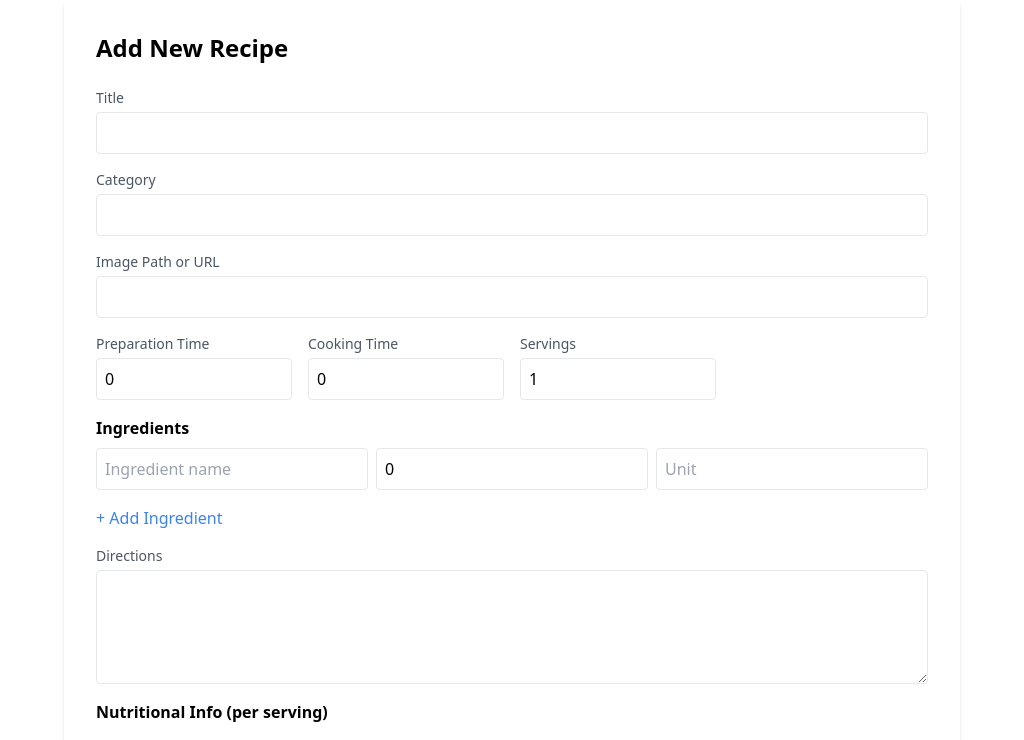
Test: AddRecipe Page › shows error if ingredient is missing required fields
In the field labelled "Title": (512, 133) top-left (96, 112), bottom-right (928, 154), type "Test Recipe"
In the field labelled "Category": (512, 215) top-left (96, 194), bottom-right (928, 236), type "Test"
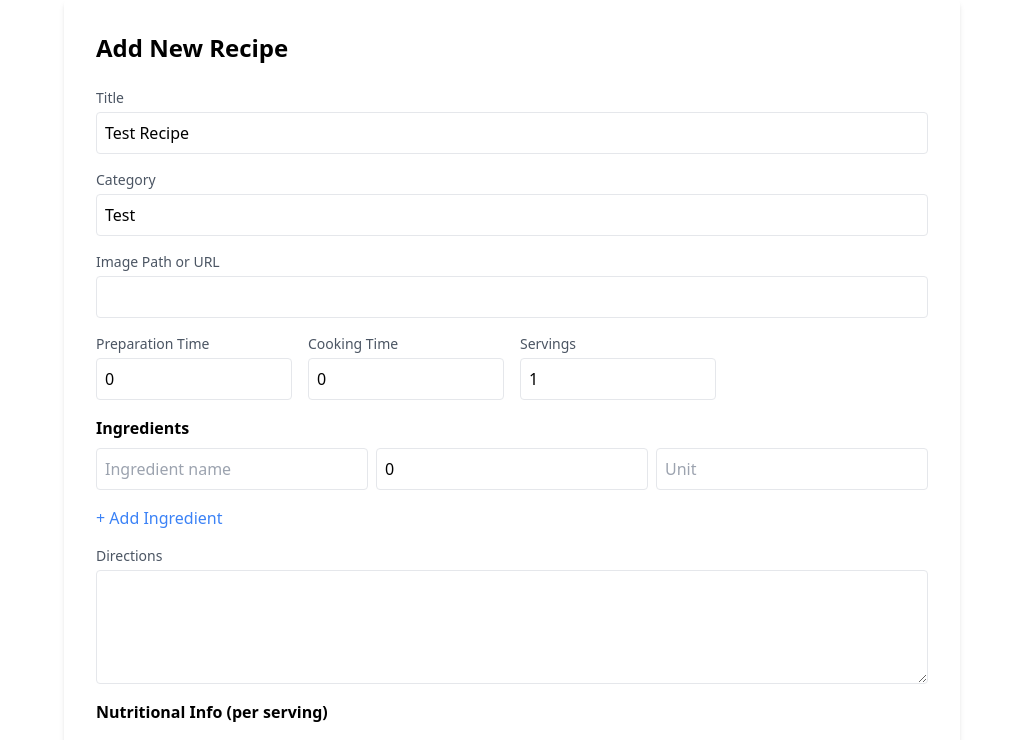
In the text box labelled "Directions": (512, 627) top-left (96, 570), bottom-right (928, 684), type "Boil"
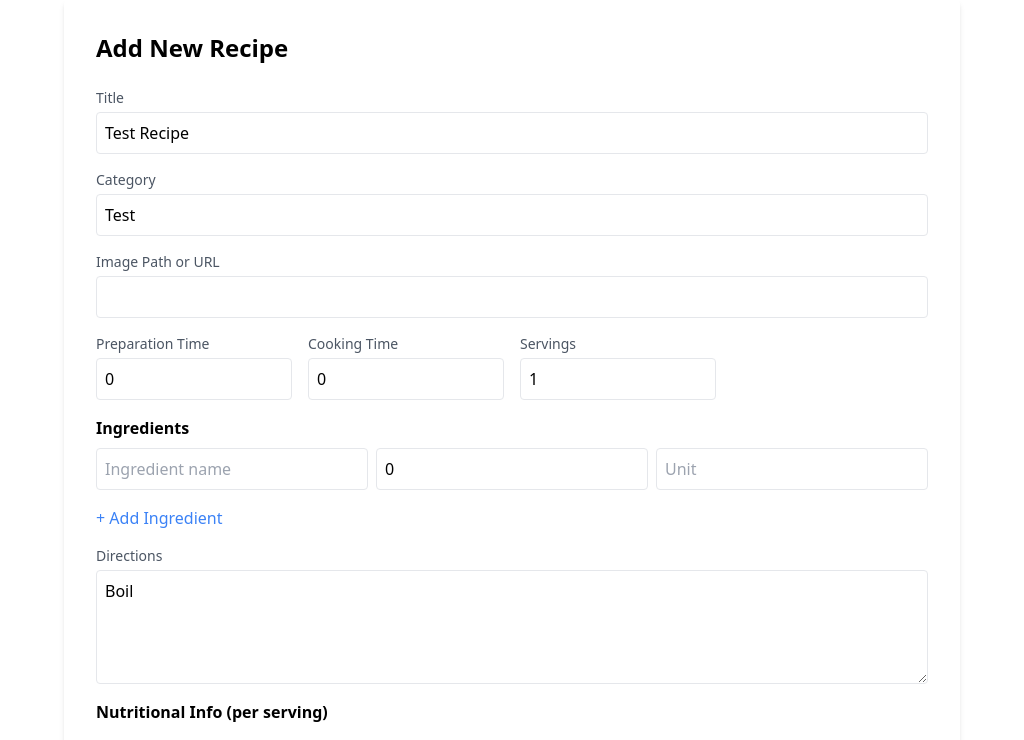
Replace the text in the number field labelled "Preparation Time" with "10": (194, 379) top-left (96, 358), bottom-right (292, 400)
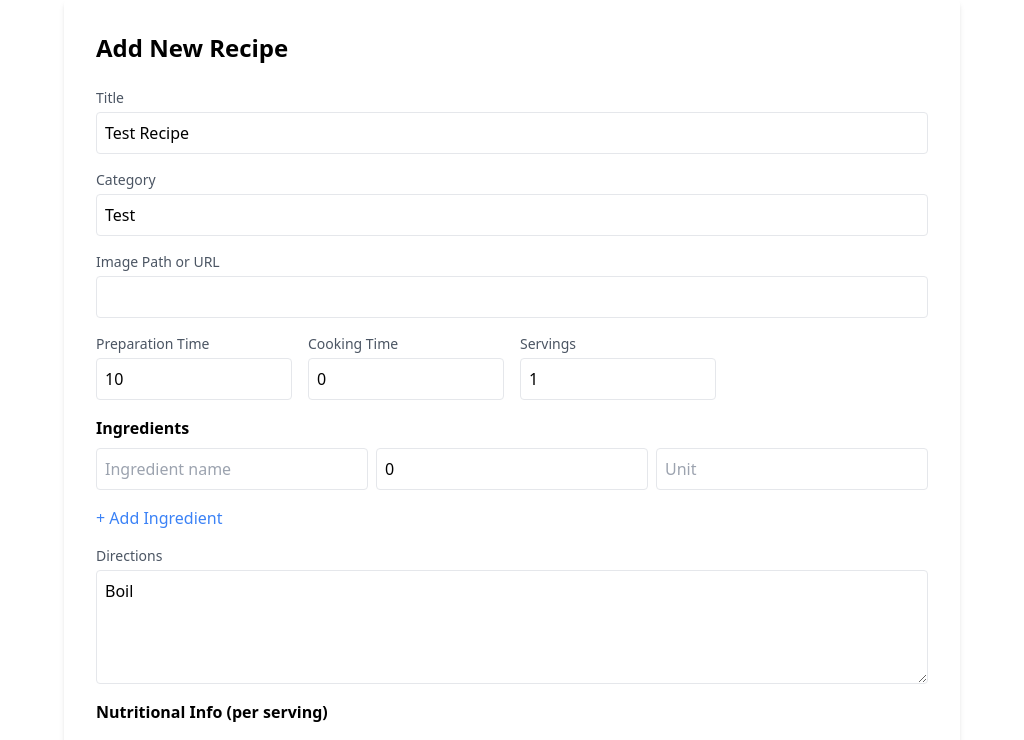
Replace the text in the number field labelled "Cooking Time" with "20": (406, 379) top-left (308, 358), bottom-right (504, 400)
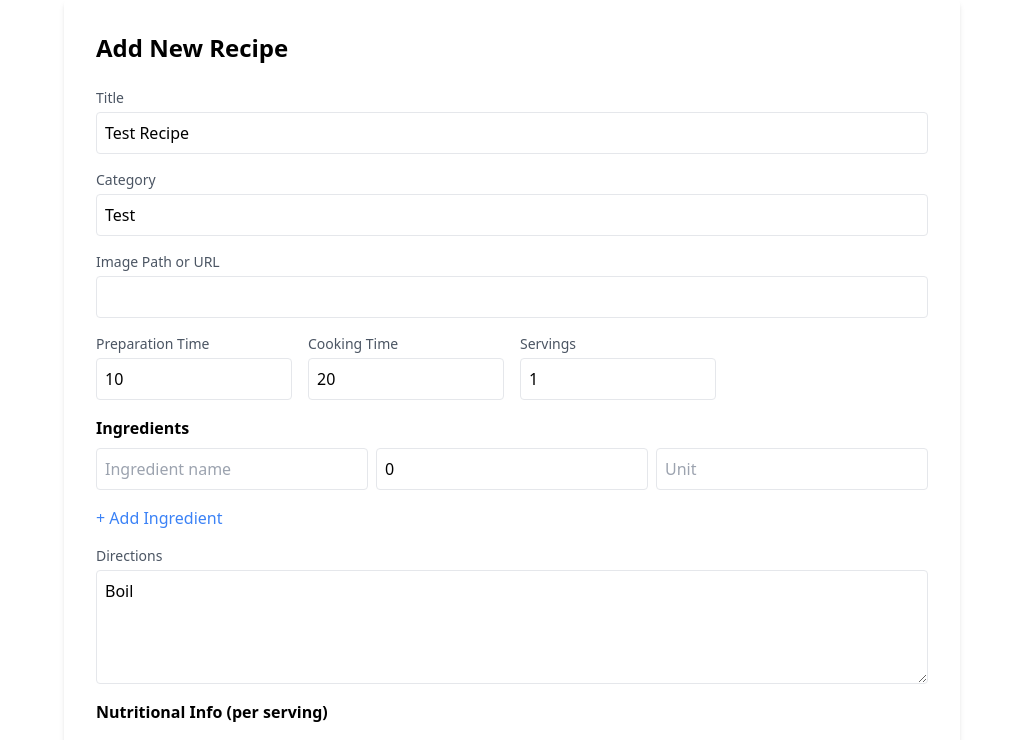
Replace the text in the number field labelled "Servings" with "2": (618, 379) top-left (520, 358), bottom-right (716, 400)
(page scrolled)
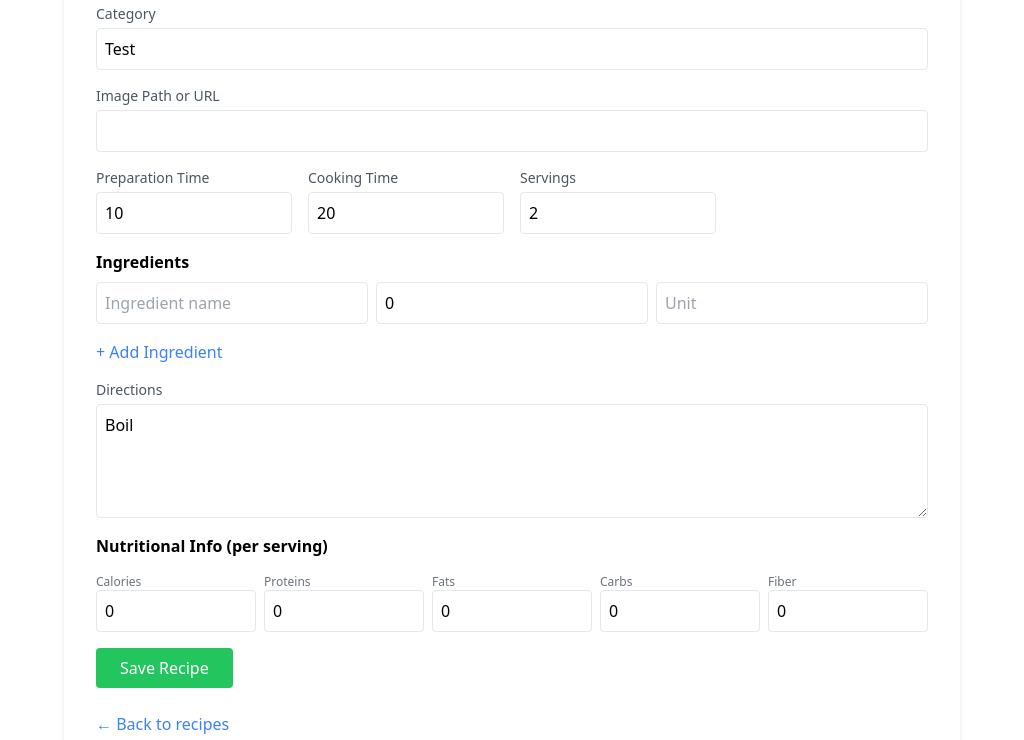
Click the button "Save Recipe": click(164, 668) top-left (96, 648), bottom-right (233, 688)
(page scrolled)
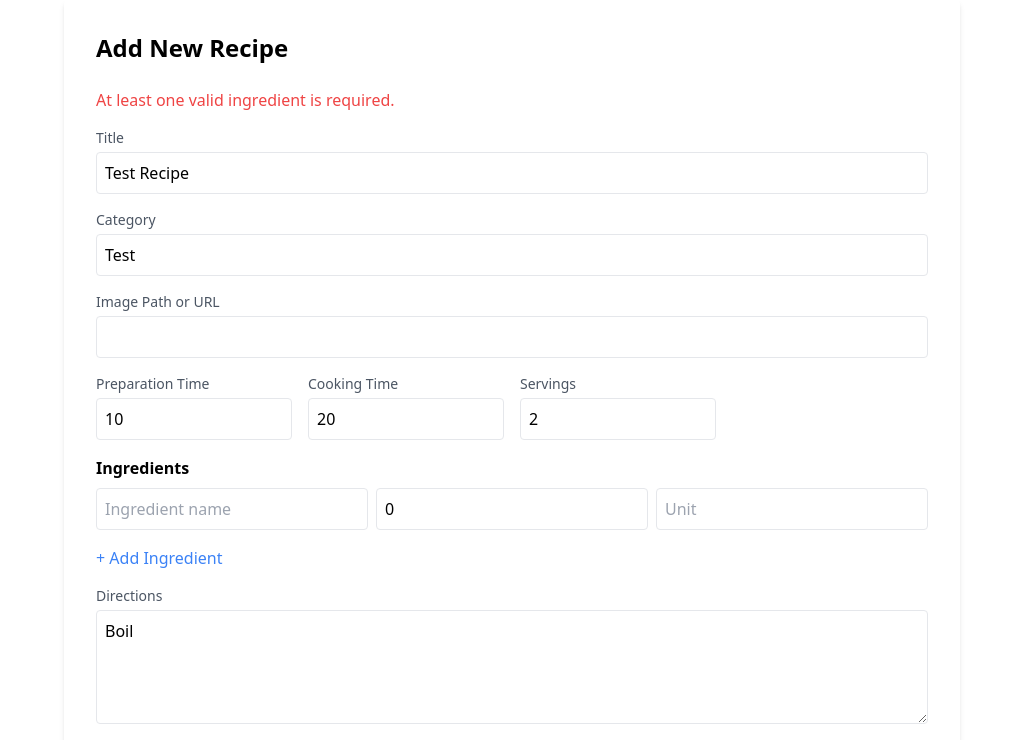
Expected: the text "At least one valid ingredient is required." is shown, top-left (96, 89), bottom-right (394, 111)
